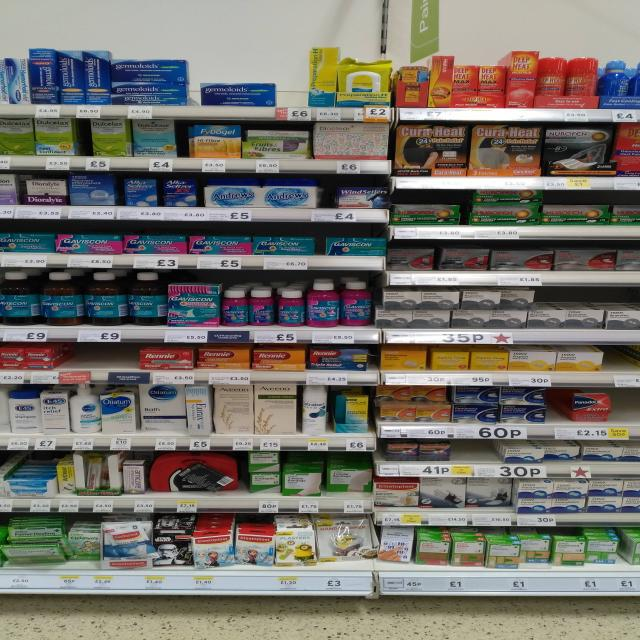empty: (51, 337, 144, 373), (447, 440, 507, 469), (272, 71, 311, 111), (600, 340, 640, 378)
